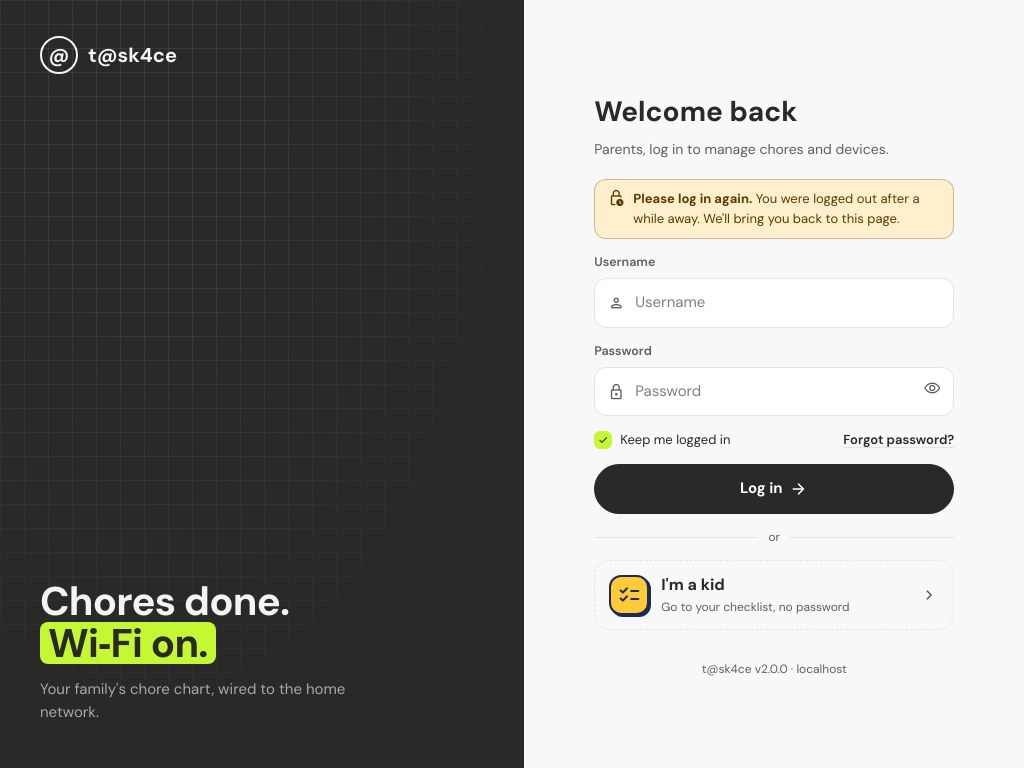
Scenario: LoginForm › forgot pane shows cli command
Step 1. Click the button "Forgot password?" → {"x": 899, "y": 440}, box [836,423,961,457]
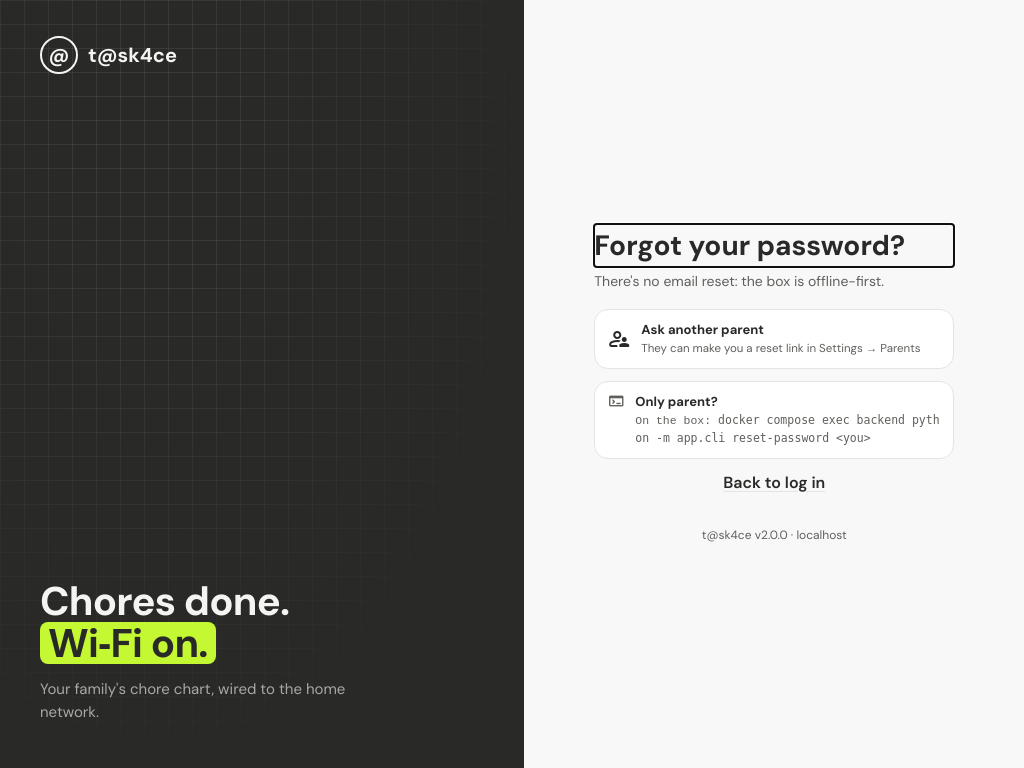
Check: the text "docker compose exec backend python -m app.cli reset-password" is shown, box [635,413,940,445]
